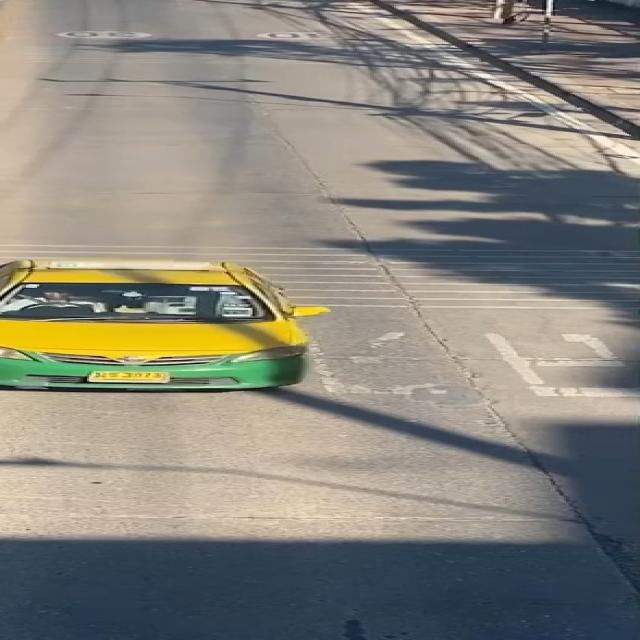car: (0, 246, 345, 404)
